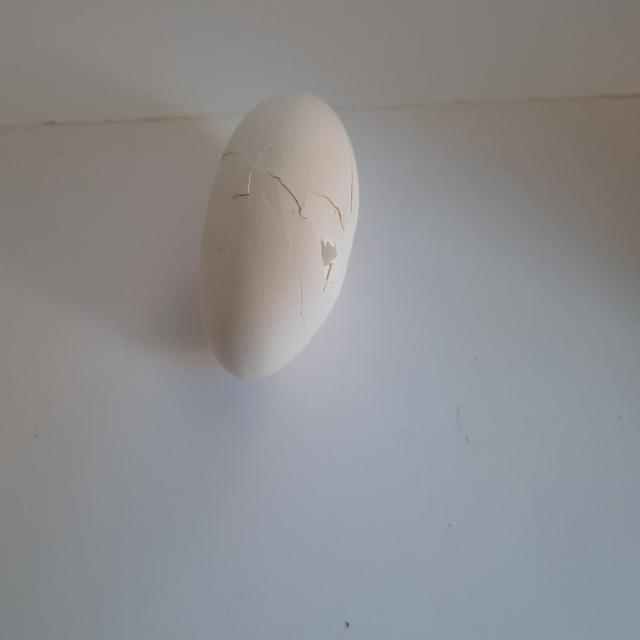egg shell: (193, 79, 364, 388)
